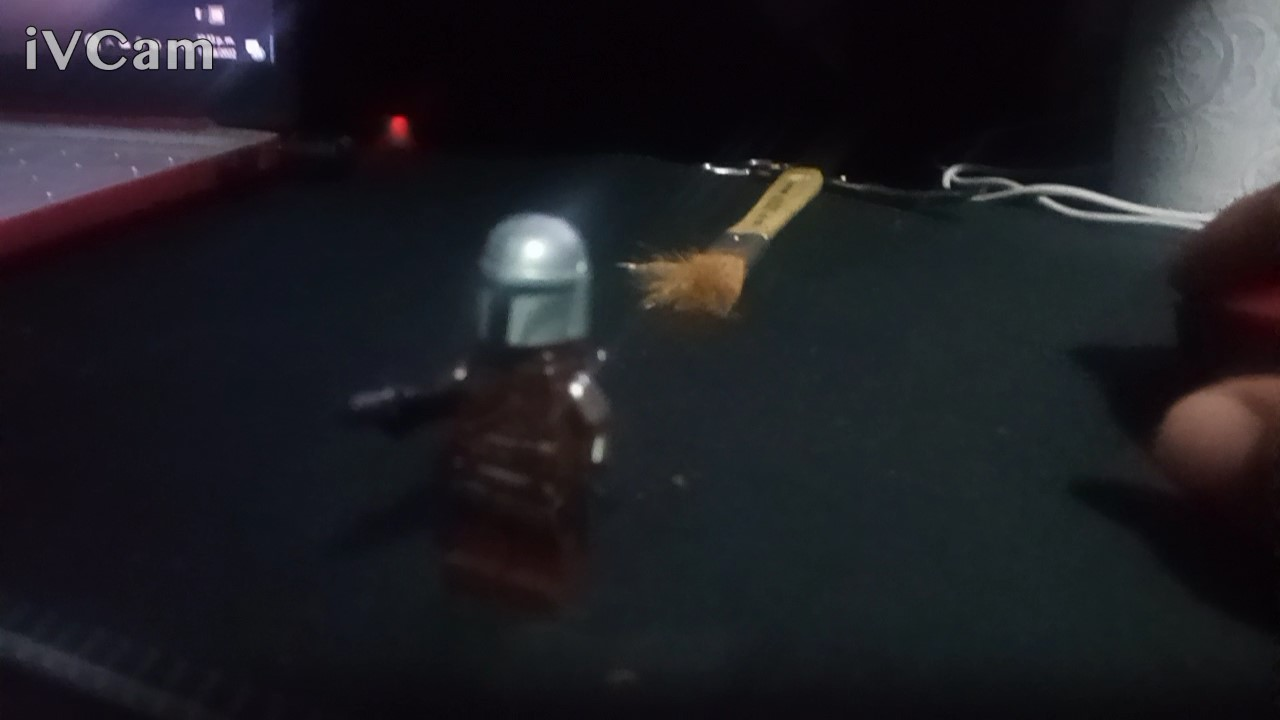mandalorian: (346, 205, 646, 631)
